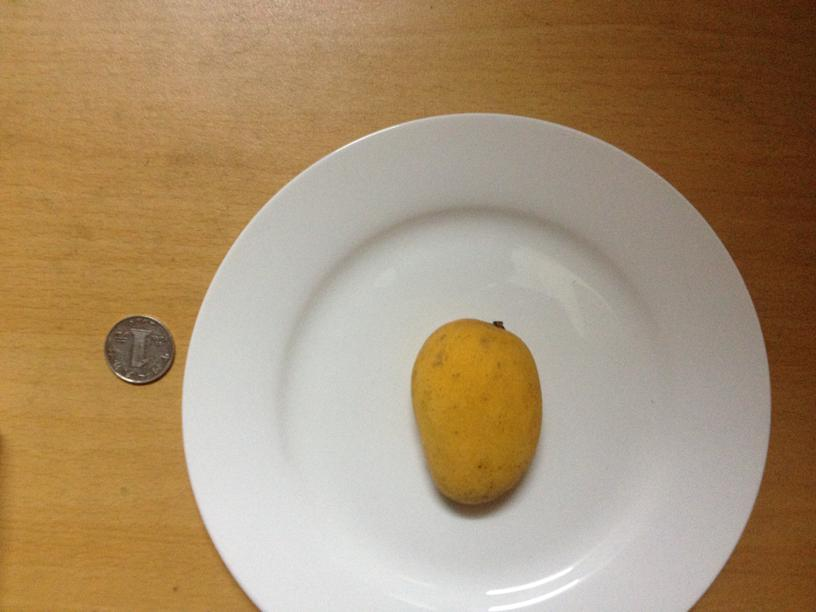coin: (103, 312, 174, 384)
mango: (412, 317, 541, 507)
